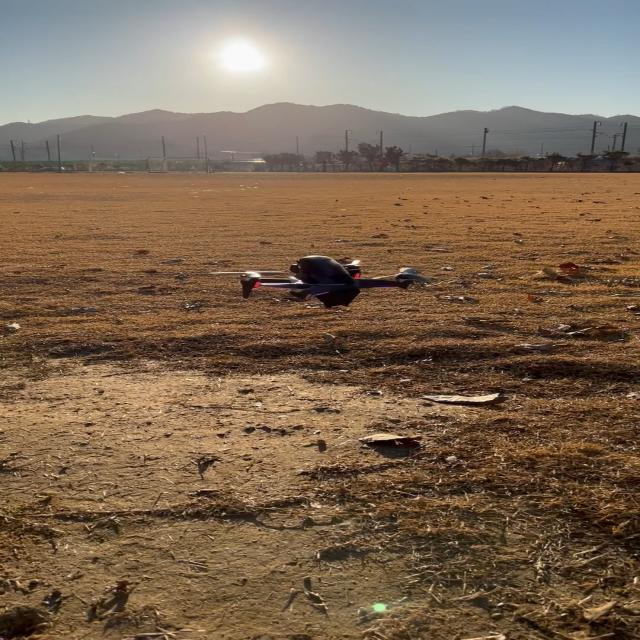Drone: (222, 254, 423, 307)
